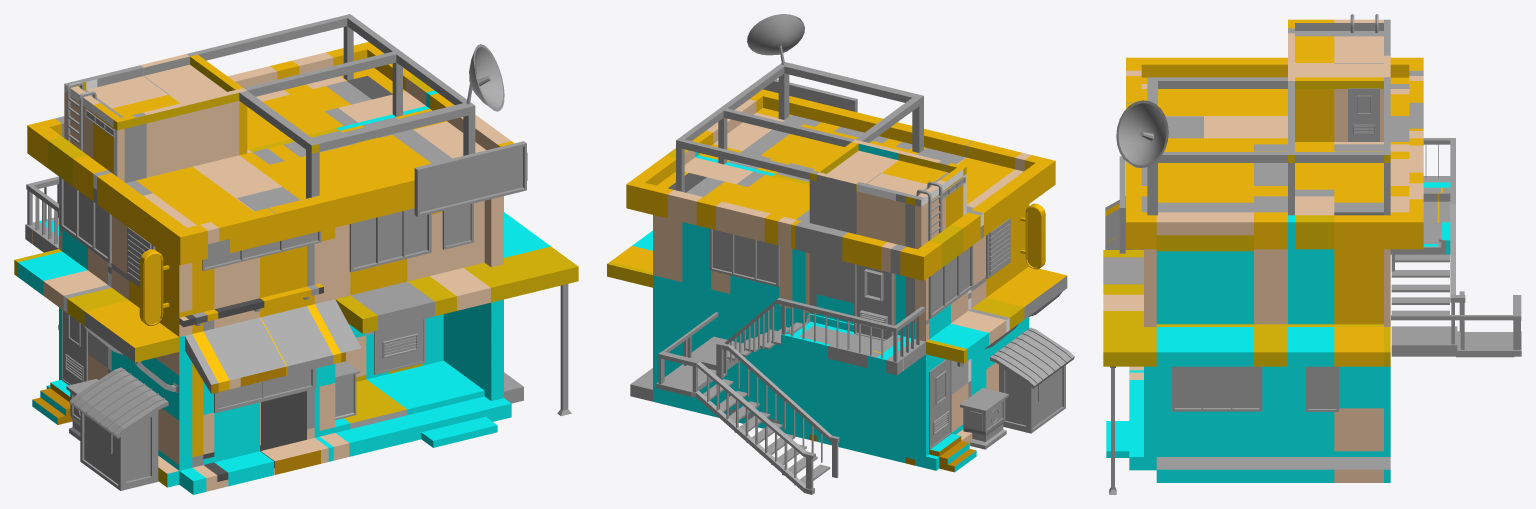
The model's file is Level 1 Fixed FInal.fbx.
The picture shows the model from 3 angles, left to right: view 1: azimuth 30°, elevation 25°; view 2: azimuth 150°, elevation 25°; view 3: azimuth 270°, elevation 25°; orthographic projection. The views are drawn at different scales.
Visible parts, largest first — view 1: Level_1_Building:Main_Building, Level_1_Building:Garbage_Bin, Level_1_Building:pCube5, Level_1_Building:Normal_Window_1, Level_1_Building:Window_Standard_2, Level_1_Building:Front_Door, Level_1_Building:Window_Shed, Level_1_Building:Side_Sign, Level_1_Building:Side_Door, Level_1_Building:pDisc1, Level_1_Building:Small_Window, Level_1_Building:StairCase2 (+4 smaller); view 2: Level_1_Building:Main_Building, Level_1_Building:StairCase2, Level_1_Building:Garbage_Bin, Level_1_Building:Normal_Window_2, Level_1_Building:Side_Door1, Level_1_Building:pCube8, Level_1_Building:Window_Standard_2, Level_1_Building:pDisc1, Level_1_Building:Side_Door, Level_1_Building:Side_Sign, Level_1_Building:Closed_Window, Level_1_Building:pCube5 (+1 smaller); view 3: Level_1_Building:Main_Building, Level_1_Building:StairCase2, Level_1_Building:Normal_Window_3, Level_1_Building:pDisc1, Level_1_Building:Front_Door1, Level_1_Building:Single_Window1, Level_1_Building:pCube5.
Part boxes in pixels (x1,y1,x2,y2): Level_1_Building:Main_Building: (14, 14, 578, 494); Level_1_Building:Garbage_Bin: (69, 367, 168, 490); Level_1_Building:pCube5: (414, 141, 526, 216); Level_1_Building:Normal_Window_1: (349, 208, 431, 272); Level_1_Building:Window_Standard_2: (59, 177, 111, 263); Level_1_Building:Front_Door: (374, 319, 424, 374); Level_1_Building:Window_Shed: (214, 368, 316, 413); Level_1_Building:Side_Sign: (139, 249, 169, 325); Level_1_Building:Side_Door: (61, 309, 87, 385); Level_1_Building:pDisc1: (469, 44, 504, 111); Level_1_Building:Small_Window: (202, 231, 321, 271); Level_1_Building:StairCase2: (26, 176, 58, 329); Level_1_Building:Main_Building: (607, 62, 1067, 472); Level_1_Building:StairCase2: (656, 297, 924, 494); Level_1_Building:Garbage_Bin: (990, 327, 1074, 433); Level_1_Building:Normal_Window_2: (709, 228, 779, 286); Level_1_Building:Side_Door1: (854, 264, 894, 340); Level_1_Building:pCube8: (960, 388, 1008, 449); Level_1_Building:Window_Standard_2: (928, 245, 973, 318); Level_1_Building:pDisc1: (747, 14, 804, 55); Level_1_Building:Side_Door: (929, 359, 951, 449); Level_1_Building:Side_Sign: (1020, 203, 1045, 269); Level_1_Building:Closed_Window: (986, 218, 1010, 278); Level_1_Building:pCube5: (763, 79, 857, 112); Level_1_Building:Main_Building: (1103, 19, 1450, 494); Level_1_Building:StairCase2: (1391, 138, 1521, 357); Level_1_Building:Normal_Window_3: (1172, 366, 1262, 411); Level_1_Building:pDisc1: (1116, 100, 1168, 167); Level_1_Building:Front_Door1: (1348, 88, 1379, 141); Level_1_Building:Single_Window1: (1305, 366, 1338, 411); Level_1_Building:pCube5: (1119, 156, 1125, 253).
Bounding box in the file's own units: 5.51 × 4.53 × 4.79.
